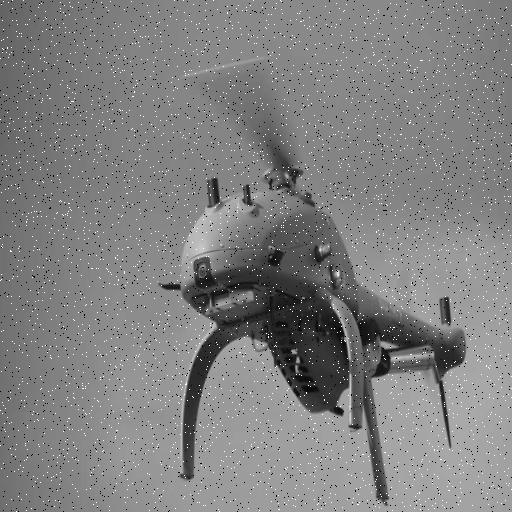helicopter: (157, 61, 464, 510)
